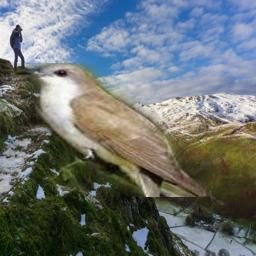Cuckoo: (13, 63, 207, 197)
